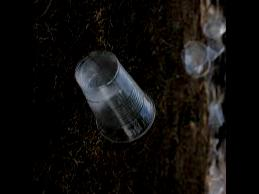Plastic: (72, 46, 154, 142)
